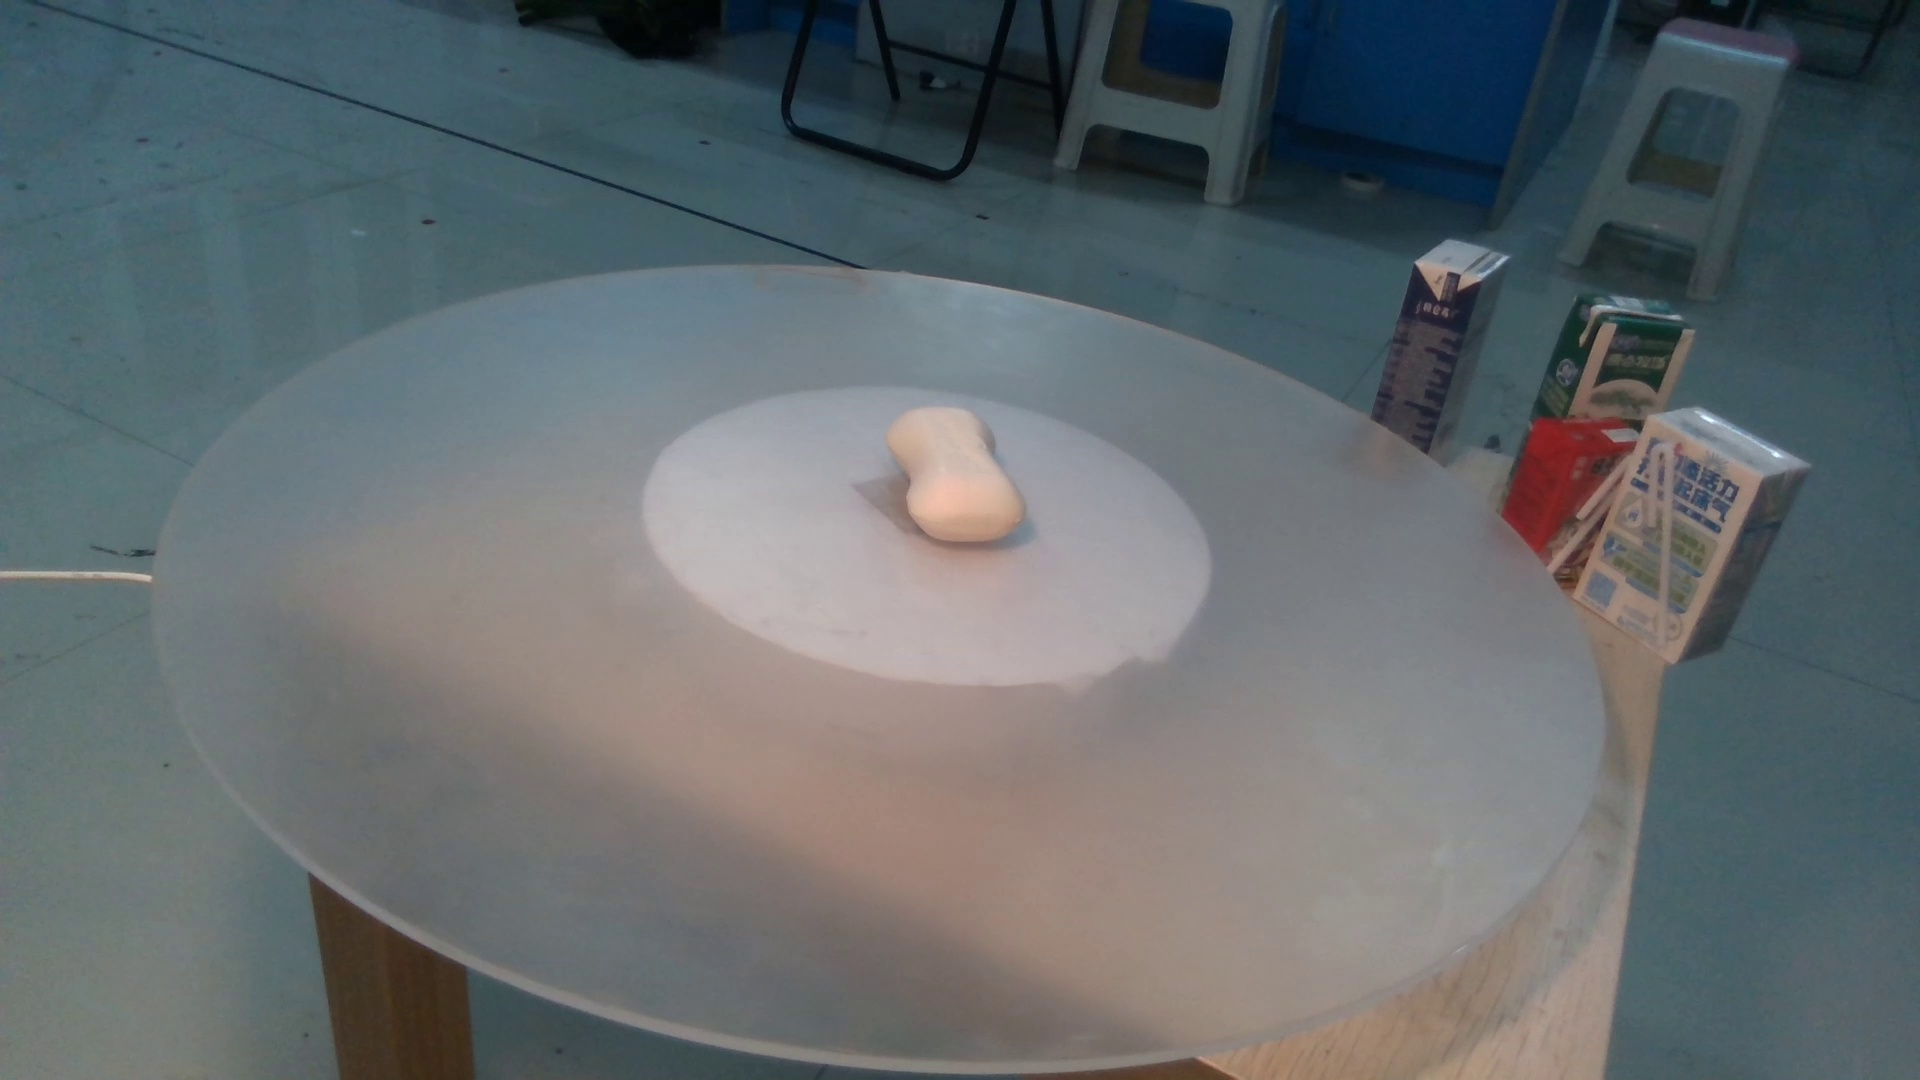CA003_1: (837, 385, 1071, 562)
